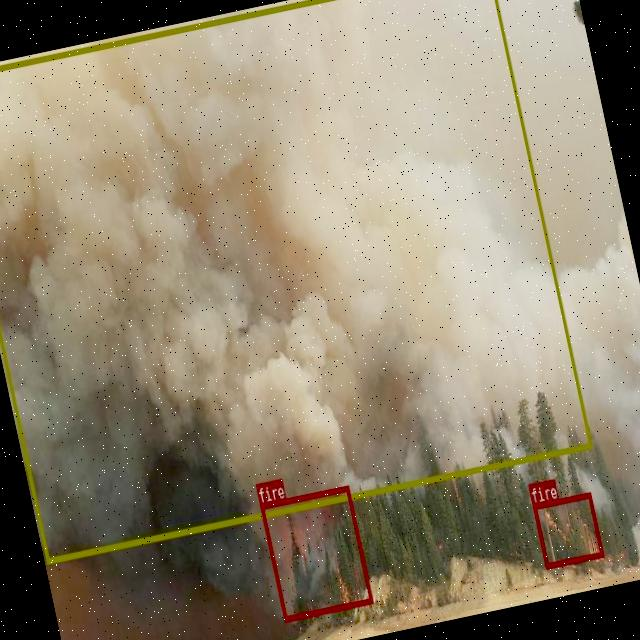fire: (258, 484, 372, 620), (532, 491, 603, 568)
smoke: (0, 0, 591, 562)
